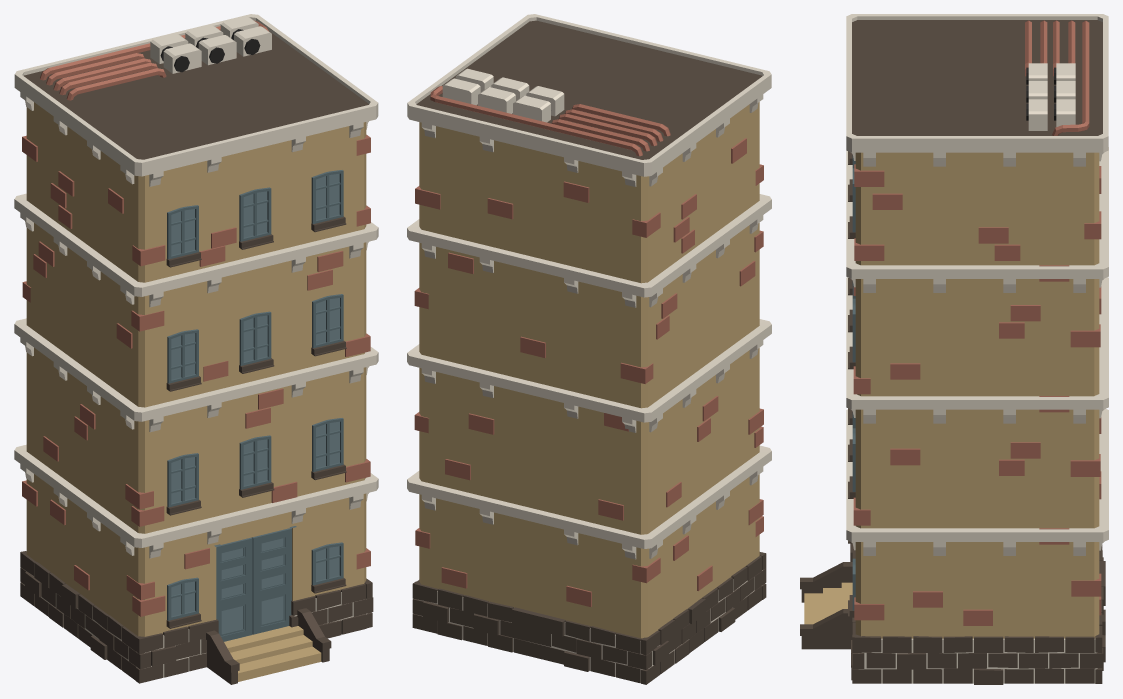
File: cairo-block-4story.glb
3 renders of one model, left to right at view 1: azimuth 30°, elevation 25°; view 2: azimuth 150°, elevation 25°; view 3: azimuth 270°, elevation 25°, orthographic. The views are drawn at different scales.
Size of the model in its own units: 2.42 by 5.09 by 2.53.
